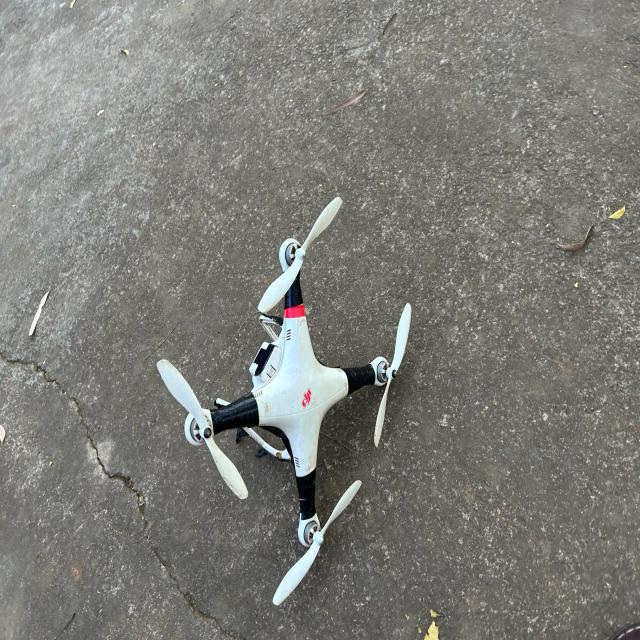drone: (110, 179, 490, 612)
